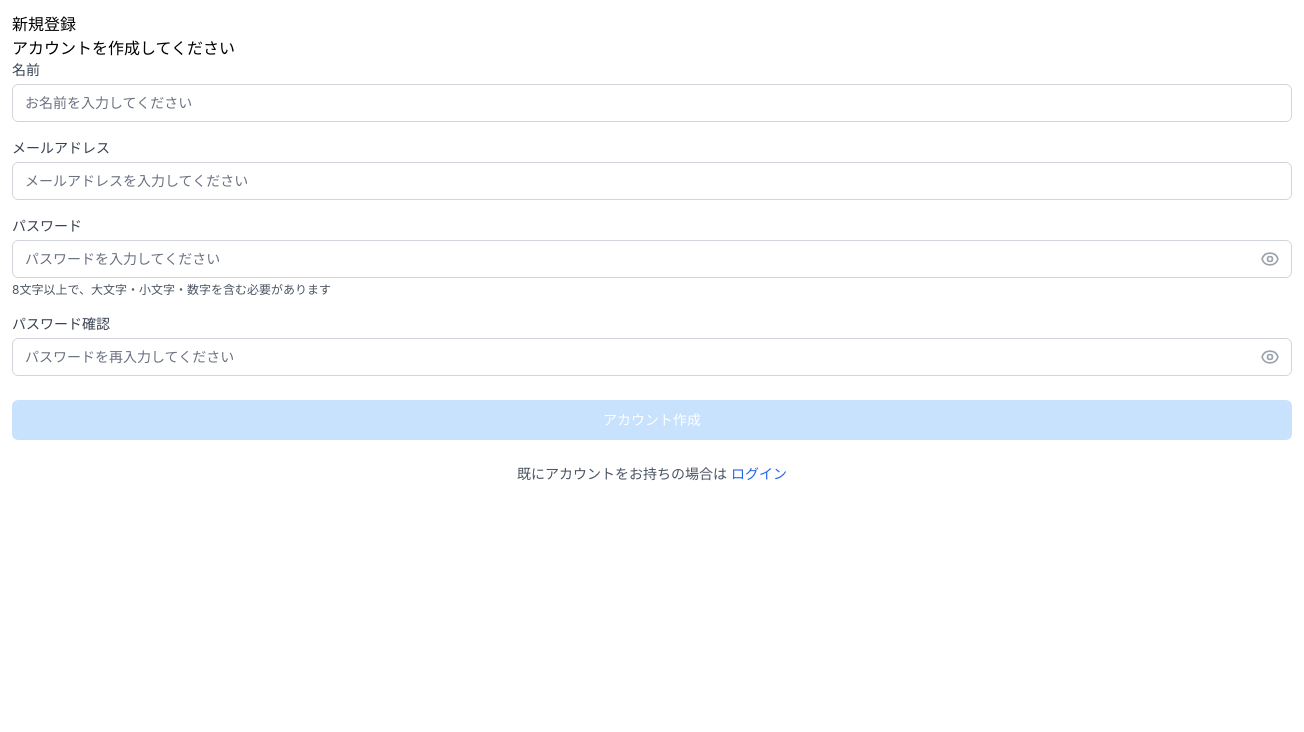
Test: SignupPage › フォーム入力 › 短いパスワードでバリデーションエラーが表示される
The width and height of the screenshot is (1304, 732).
Type "123" into the password field labelled "パスワード" at [652, 259], box x1=12 y1=240 x2=1292 y2=278
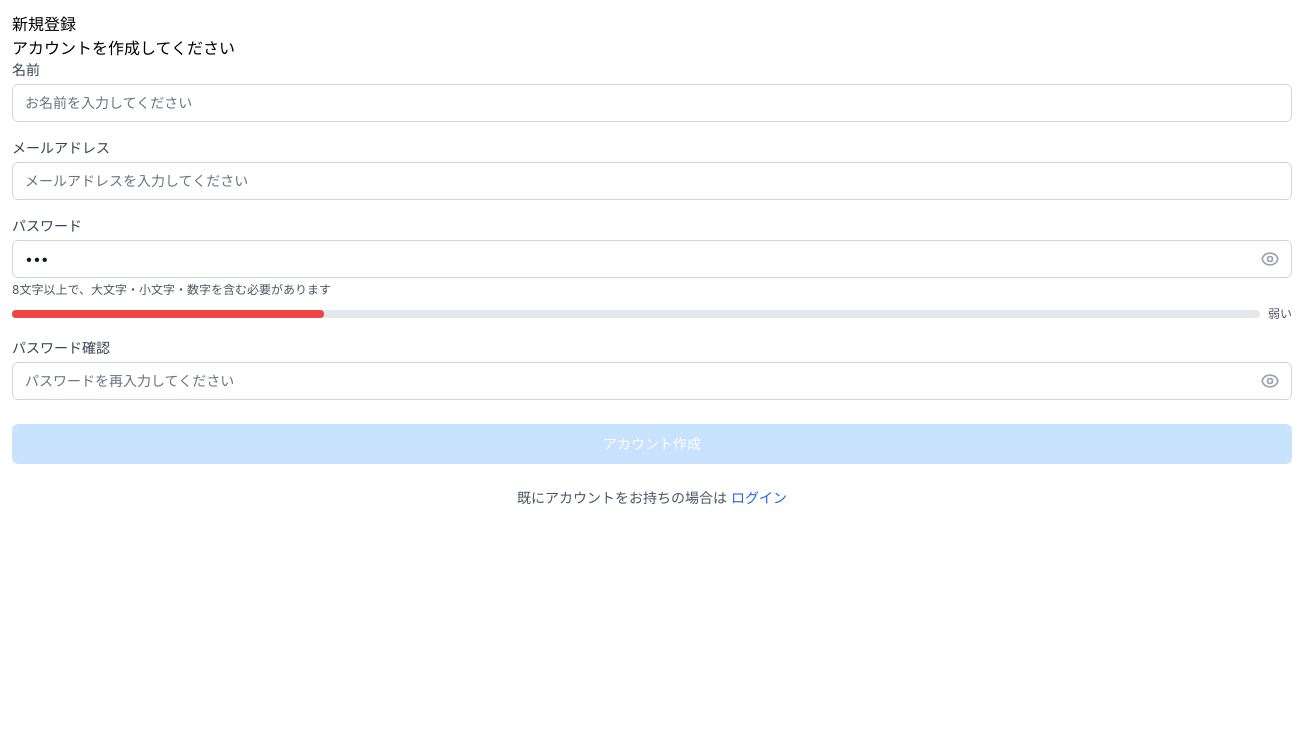
Leave the password field labelled "パスワード", box x1=12 y1=240 x2=1292 y2=278
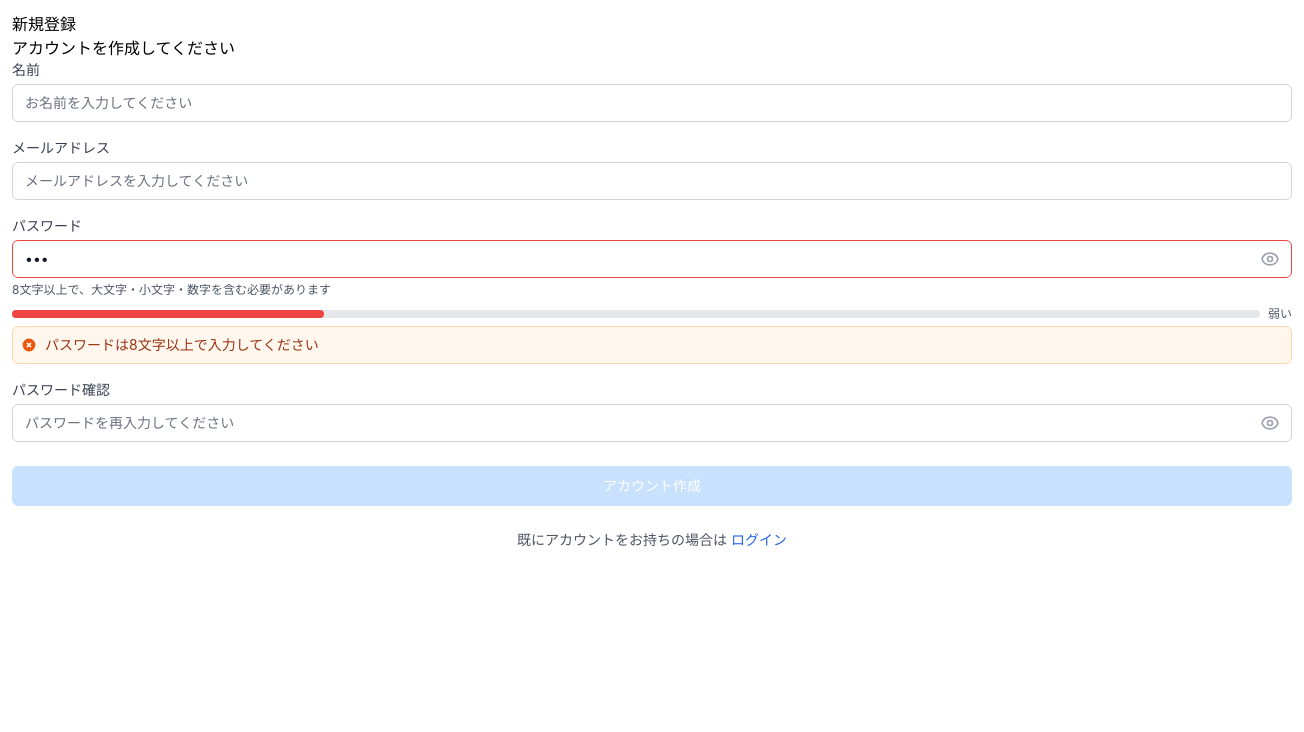
Expected: the text "パスワードは8文字以上で入力してください" is shown, x1=44 y1=335 x2=319 y2=353
